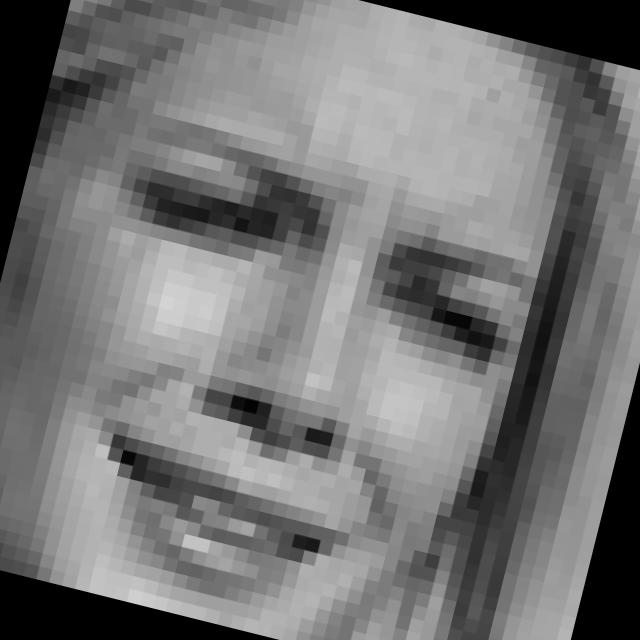sad: (36, 97, 553, 640)
